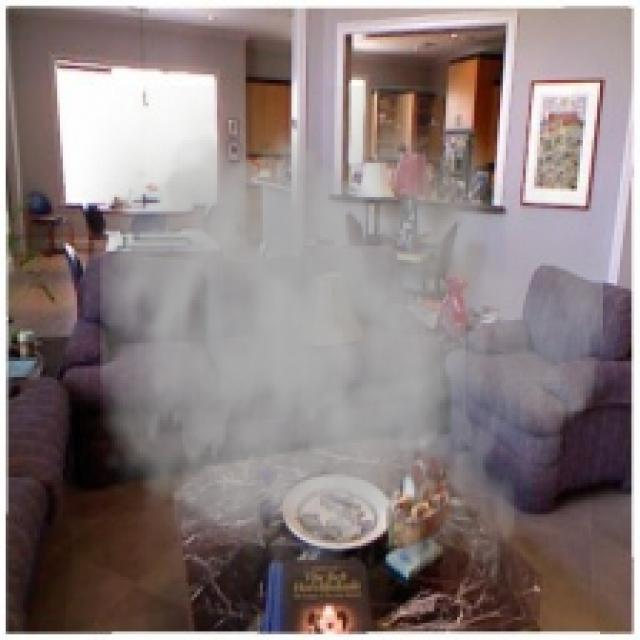Smoke: (68, 86, 603, 634)
